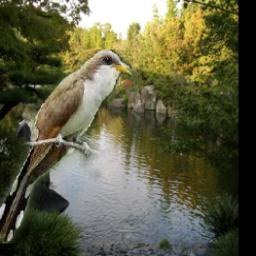Cuckoo: (0, 50, 131, 243)
